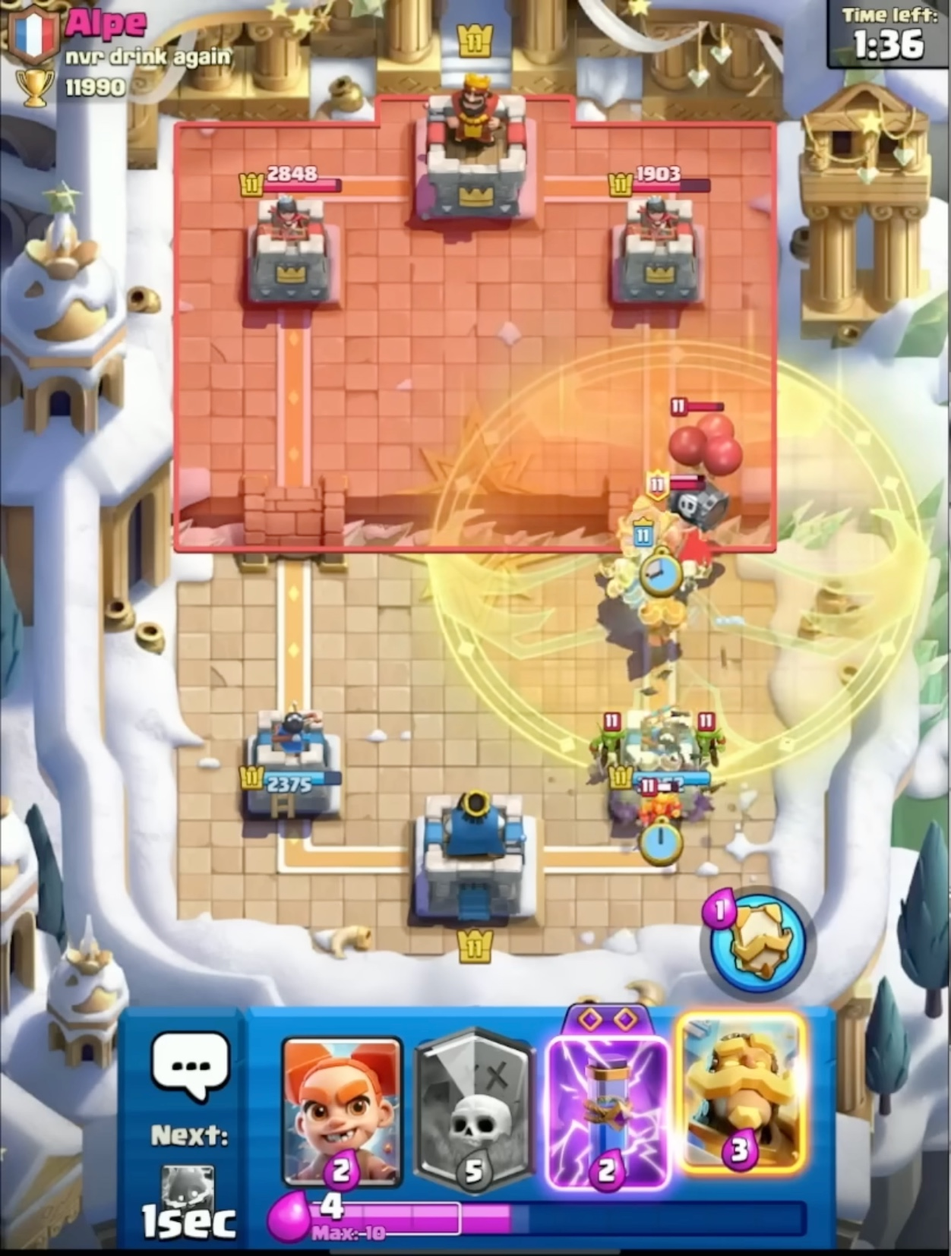goblin: (640, 779, 691, 855), (590, 708, 634, 775), (685, 707, 728, 765)
hero-knight: (622, 469, 721, 589)
skeleton-barrel: (661, 385, 744, 539)
